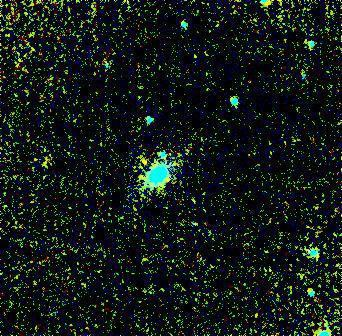star: (129, 147, 159, 177)
